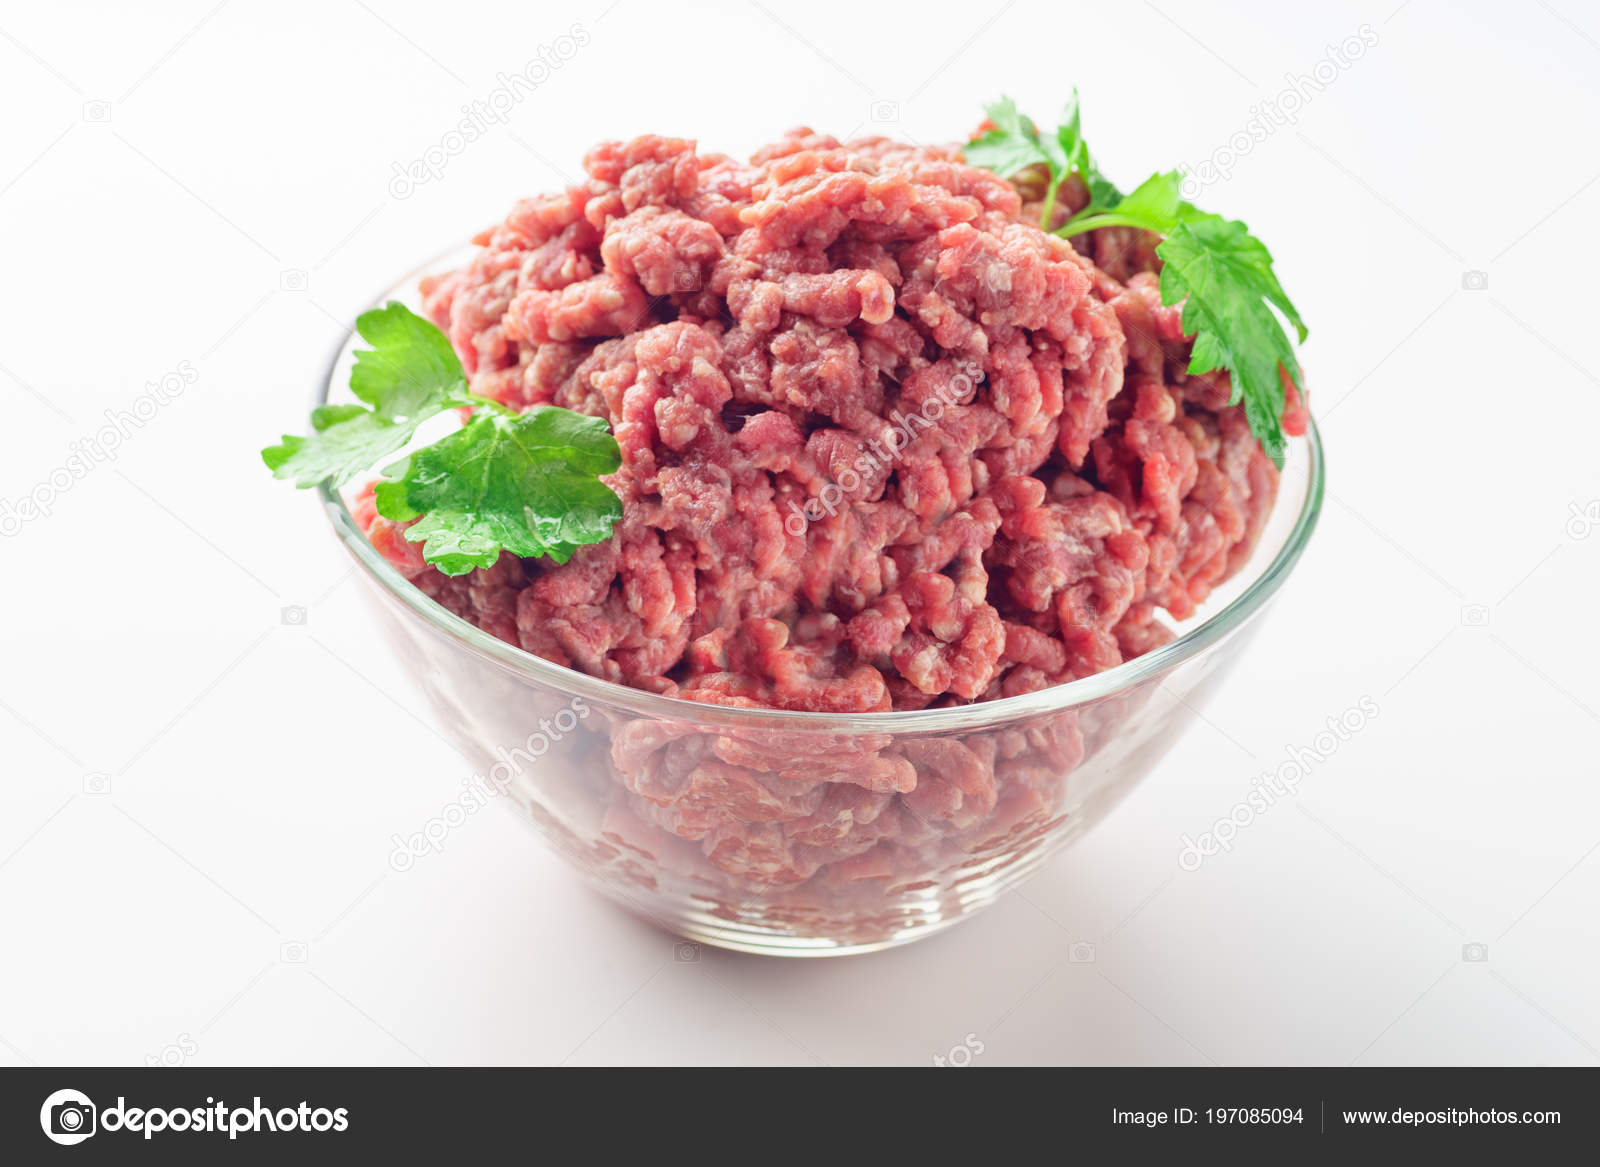ground_beef: (468, 138, 1239, 744)
